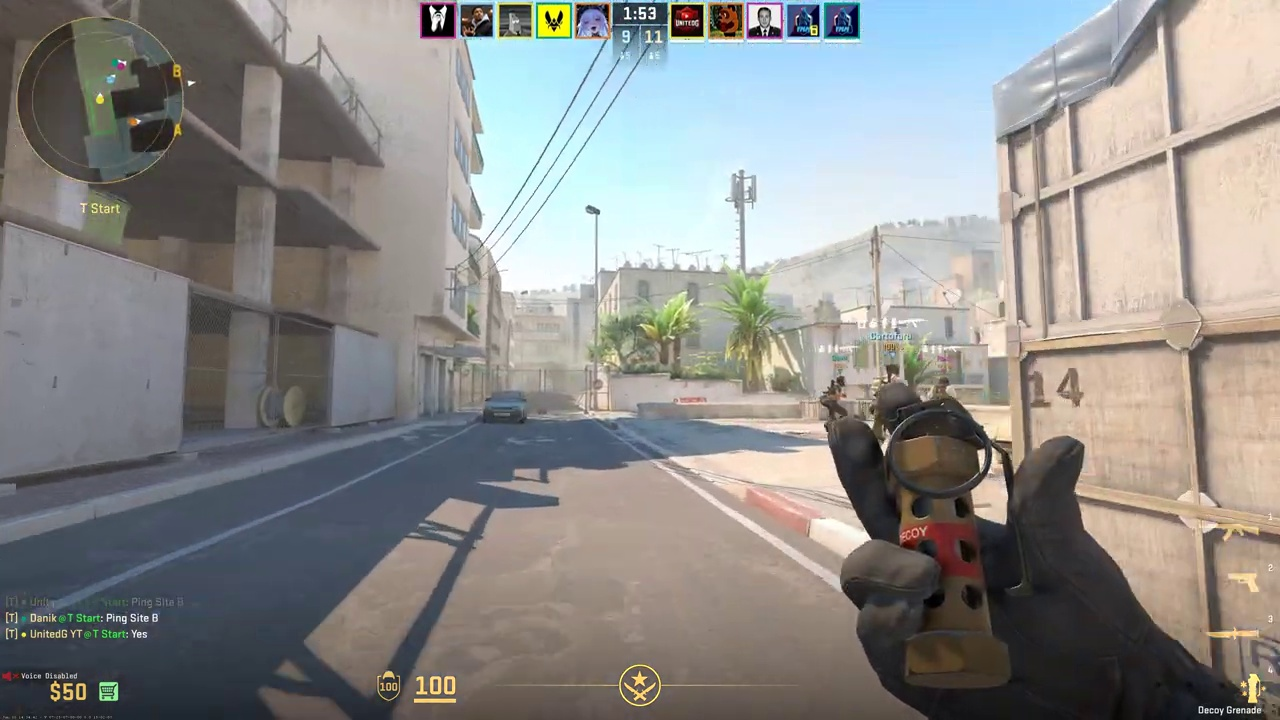Terrorist: (821, 376, 847, 421), (874, 363, 903, 390), (930, 378, 953, 403)
